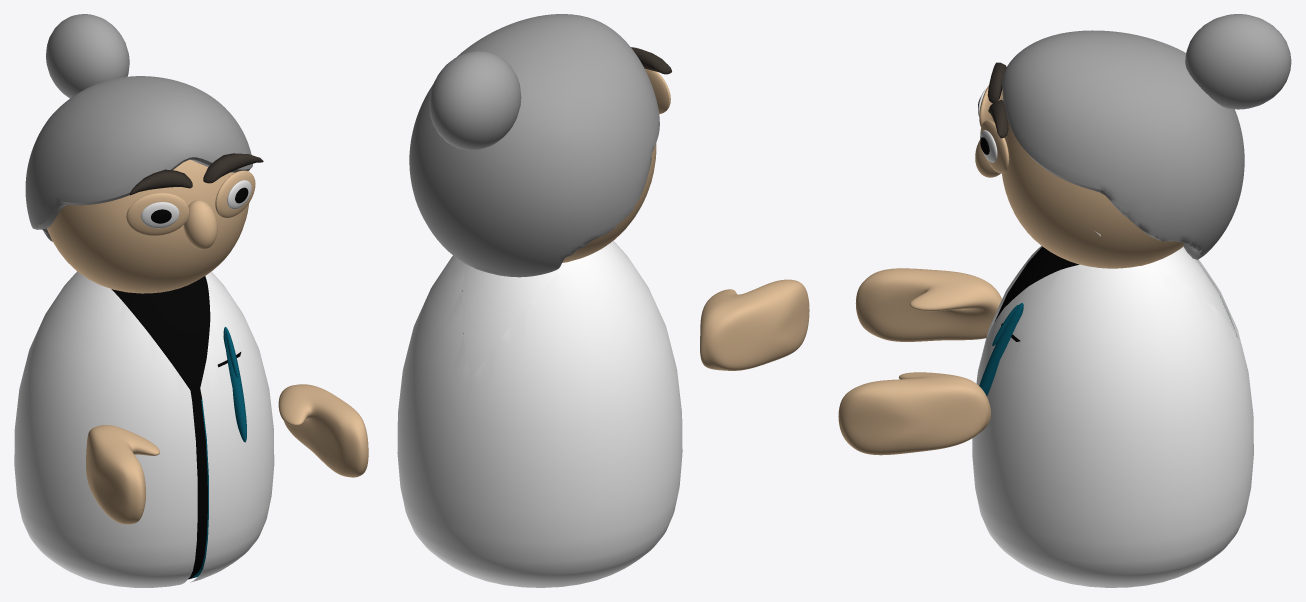
Rendered from PLAYERFEMSEMBOCA.fbx.
3 views of the same model, side by side, from view 1: azimuth 30°, elevation 25°; view 2: azimuth 150°, elevation 25°; view 3: azimuth 270°, elevation 25° (orthographic). The views are drawn at different scales.
Visible parts, largest first — view 1: playerfem; view 2: playerfem; view 3: playerfem.
Boxes of the visible parts, x1=… form: playerfem: x1=14, y1=14, x2=368, y2=587; playerfem: x1=397, y1=14, x2=809, y2=587; playerfem: x1=838, y1=14, x2=1291, y2=587.
Bounding box in the file's own units: 1.57 × 2.95 × 2.29.
